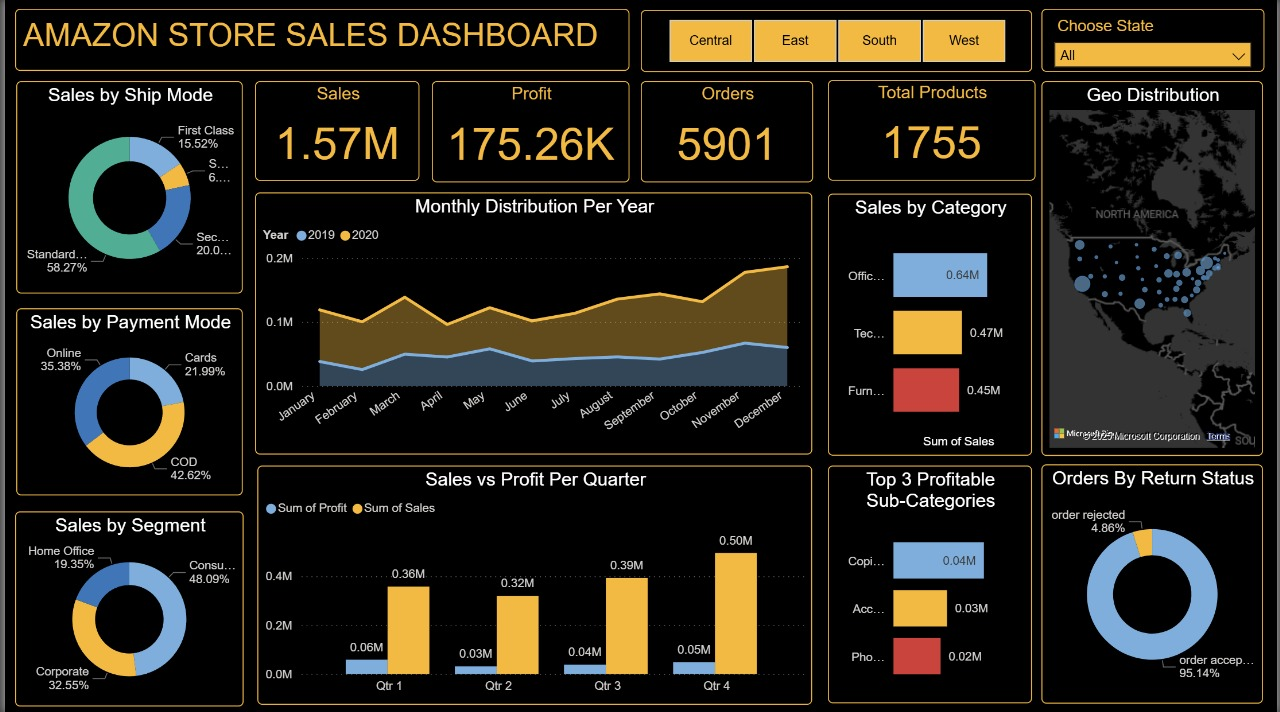

The page's visual inventory and layout, read from the dashboard file:
{"tool":"powerbi","page":{"name":"Page 1","canvas":[1280,720],"ordinal":0},"visuals":[{"type":"clusteredBarChart","title":"Sales by Category","fields":{"Category":["Amazon Store Sales Data#xlsx -.Category"],"Y":["Sum(Amazon Store Sales Data#xlsx -.Sales)"]},"box":[828.7,196.3,205.3,263.9],"z":0},{"type":"clusteredBarChart","title":"Top 3 Profitable Sub-Categories","fields":{"Category":["Amazon Store Sales Data#xlsx -.Sub-Category"],"Y":["Sum(Amazon Store Sales Data#xlsx -.Profit)"]},"box":[828.7,470.4,205.3,239.7],"z":1000},{"type":"donutChart","title":"Sales by Segment","fields":{"Y":["Sum(Amazon Store Sales Data#xlsx -.Sales)"],"Category":["Amazon Store Sales Data#xlsx -.Segment"]},"box":[10,516.2,230,196.2],"z":2000},{"type":"donutChart","title":"Sales by Ship Mode","fields":{"Series":["Amazon Store Sales Data#xlsx -.Ship Mode"],"Y":["Sum(Amazon Store Sales Data#xlsx -.Sales)"]},"box":[11.5,82.9,228.2,214.2],"z":3000},{"type":"pieChart","title":"Orders By Return Status","fields":{"Y":["CountNonNull(Amazon Store Sales Data#xlsx -.Order ID)"],"Series":["Amazon Store Sales Data#xlsx -.Return status"]},"box":[1044.1,469.2,223.1,241],"z":4000},{"type":"stackedAreaChart","title":"Monthly Distribution Per Year","fields":{"Y":["Sum(Amazon Store Sales Data#xlsx -.Sales)"],"Category":["Amazon Store Sales Data#xlsx -.Order Date.Variation.Date Hierarchy.Month"],"Series":["Amazon Store Sales Data#xlsx -.Order Date.Variation.Date Hierarchy.Year"]},"box":[252.4,195.1,561,263.9],"z":5000},{"type":"clusteredColumnChart","title":"Sales vs Profit Per Quarter","fields":{"Y":["Sum(Amazon Store Sales Data#xlsx -.Profit)","Sum(Amazon Store Sales Data#xlsx -.Sales)"],"Category":["Amazon Store Sales Data#xlsx -.Order Date.Variation.Date Hierarchy.Quarter"]},"box":[253.7,470.4,558.4,241],"z":6000},{"type":"map","title":"Geo Distribution","fields":{"Category":["Amazon Store Sales Data#xlsx -.State"],"Size":["Sum(Amazon Store Sales Data#xlsx -.Sales)"]},"box":[1044.1,82.9,223.1,377.4],"z":7000},{"type":"donutChart","title":"Sales by Payment Mode","fields":{"Series":["Amazon Store Sales Data#xlsx -.Payment Mode"],"Y":["Sum(Amazon Store Sales Data#xlsx -.Sales)"]},"box":[11.5,312.4,228.2,188.7],"z":8000},{"type":"slicer","fields":{"Values":["Amazon Store Sales Data#xlsx -.Region"]},"box":[640,11.5,393.9,62.5],"z":9000},{"type":"slicer","fields":{"Values":["Amazon Store Sales Data#xlsx -.State"]},"box":[1044.1,10.2,224.4,63.7],"z":10000},{"type":"textbox","box":[10.2,10.2,618.3,62.5],"z":11000},{"type":"card","title":"Sales","fields":{"Values":["Sum(Amazon Store Sales Data#xlsx -.Sales)"]},"box":[252.4,82.9,165.7,100.7],"z":12000},{"type":"card","title":"Profit","fields":{"Values":["Sum(Amazon Store Sales Data#xlsx -.Profit)"]},"box":[429.6,82.9,198.9,102],"z":13000},{"type":"card","title":"Orders","fields":{"Values":["CountNonNull(Amazon Store Sales Data#xlsx -.Order ID)"]},"box":[640,82.9,173.4,102],"z":14000},{"type":"card","title":"Total Products","fields":{"Values":["Count(Amazon Store Sales Data#xlsx -.Product ID)"]},"box":[828.8,82.5,208.8,101.2],"z":15000}]}

Visuals, with their boxes in screenshot pixels (x1, y1, x2, y2), scaled from the page's 1280x720 canvas onto the 1280x712 screenshot:
"Sales by Category" clusteredBarChart: x1=829, y1=194, x2=1034, y2=455
"Top 3 Profitable Sub-Categories" clusteredBarChart: x1=829, y1=465, x2=1034, y2=702
"Sales by Segment" donutChart: x1=10, y1=510, x2=240, y2=704
"Sales by Ship Mode" donutChart: x1=12, y1=82, x2=240, y2=294
"Orders By Return Status" pieChart: x1=1044, y1=464, x2=1267, y2=702
"Monthly Distribution Per Year" stackedAreaChart: x1=252, y1=193, x2=813, y2=454
"Sales vs Profit Per Quarter" clusteredColumnChart: x1=254, y1=465, x2=812, y2=703
"Geo Distribution" map: x1=1044, y1=82, x2=1267, y2=455
"Sales by Payment Mode" donutChart: x1=12, y1=309, x2=240, y2=496
slicer - Amazon Store Sales Data#xlsx -.Region: x1=640, y1=11, x2=1034, y2=73
slicer - Amazon Store Sales Data#xlsx -.State: x1=1044, y1=10, x2=1268, y2=73
textbox: x1=10, y1=10, x2=628, y2=72
"Sales" card: x1=252, y1=82, x2=418, y2=182
"Profit" card: x1=430, y1=82, x2=628, y2=183
"Orders" card: x1=640, y1=82, x2=813, y2=183
"Total Products" card: x1=829, y1=82, x2=1038, y2=182
